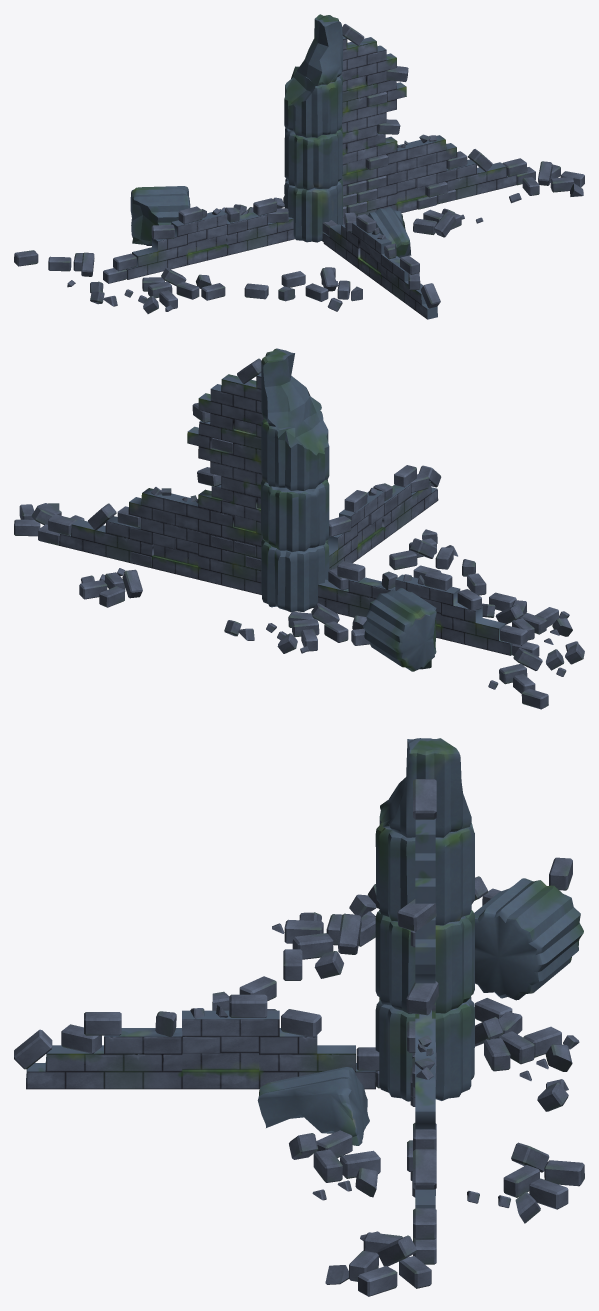
The model's file is wall_cross_3.obj.
3 renders of one model, top to bottom at view 1: azimuth 30°, elevation 25°; view 2: azimuth 150°, elevation 25°; view 3: azimuth 270°, elevation 25°, orthographic. The views are drawn at different scales.
Parts seen in each view (by area): view 1: Walls1_Estructura1_0, Bricks1_Estructura1_0, Pillar1_Material.001_0; view 2: Walls1_Estructura1_0, Bricks1_Estructura1_0, Pillar1_Material.001_0; view 3: Pillar1_Material.001_0, Bricks1_Estructura1_0, Walls1_Estructura1_0.
Boxes of the visible parts, <box> form: Walls1_Estructura1_0: <box>126,36,516,319</box>; Bricks1_Estructura1_0: <box>14,24,584,313</box>; Pillar1_Material.001_0: <box>130,14,411,257</box>; Walls1_Estructura1_0: <box>59,373,512,655</box>; Bricks1_Estructura1_0: <box>14,358,584,709</box>; Pillar1_Material.001_0: <box>261,348,436,671</box>; Pillar1_Material.001_0: <box>257,738,583,1145</box>; Bricks1_Estructura1_0: <box>14,779,584,1296</box>; Walls1_Estructura1_0: <box>26,819,435,1208</box>.
Size of the model in its own units: 5.13 by 2.08 by 2.94.
